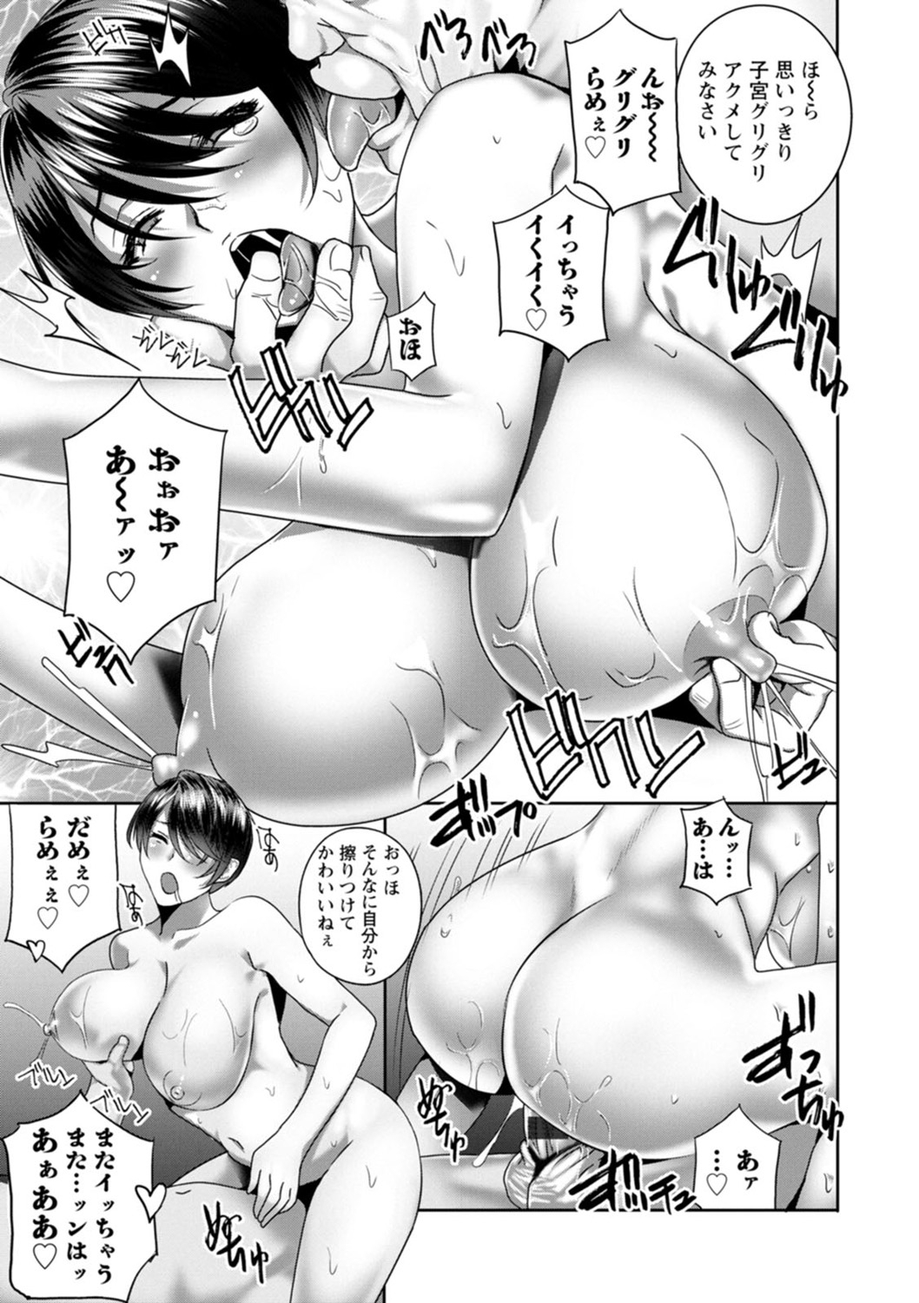text_region: (694, 56, 827, 185), (30, 1123, 120, 1290), (101, 433, 188, 605), (315, 843, 405, 979), (579, 62, 671, 170), (32, 810, 99, 931), (526, 213, 582, 334), (689, 814, 740, 886), (732, 1141, 764, 1196), (398, 314, 424, 370)
